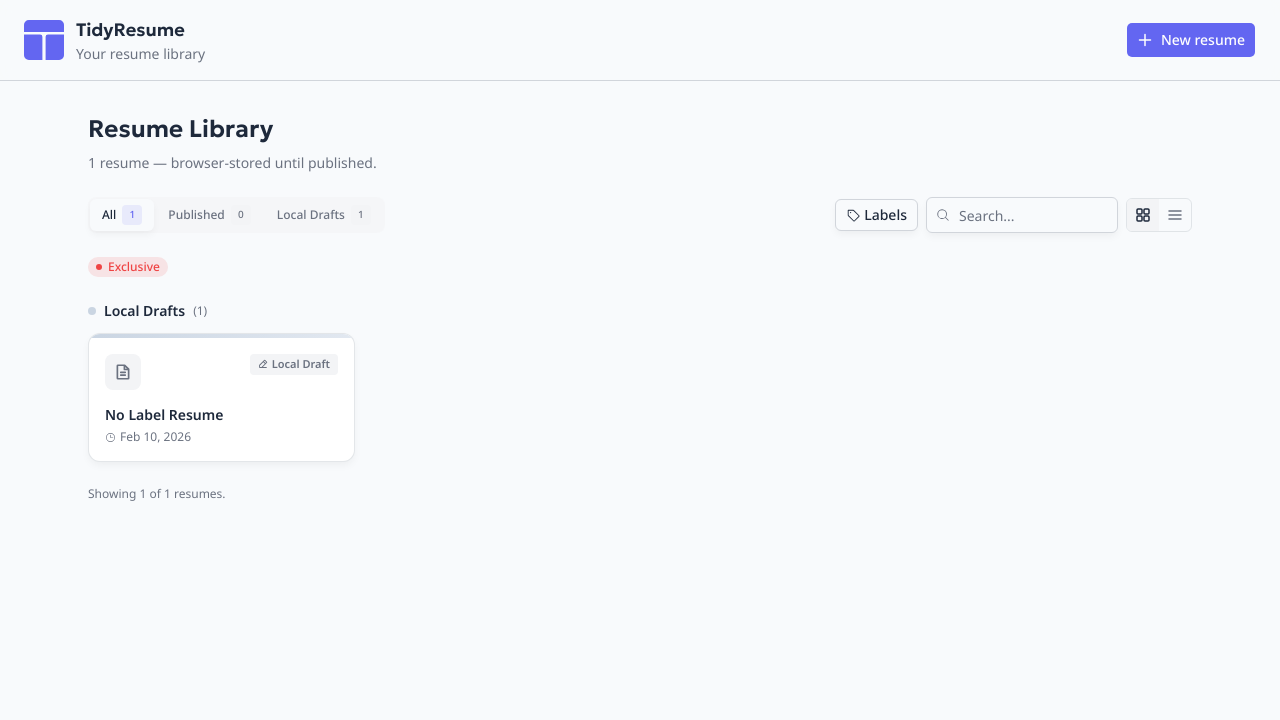
Test: ResumeLibrary (labels) › shows "No resumes match" when label filter excludes all
Click the button "Exclusive" at (128, 267), box [88, 257, 168, 277]
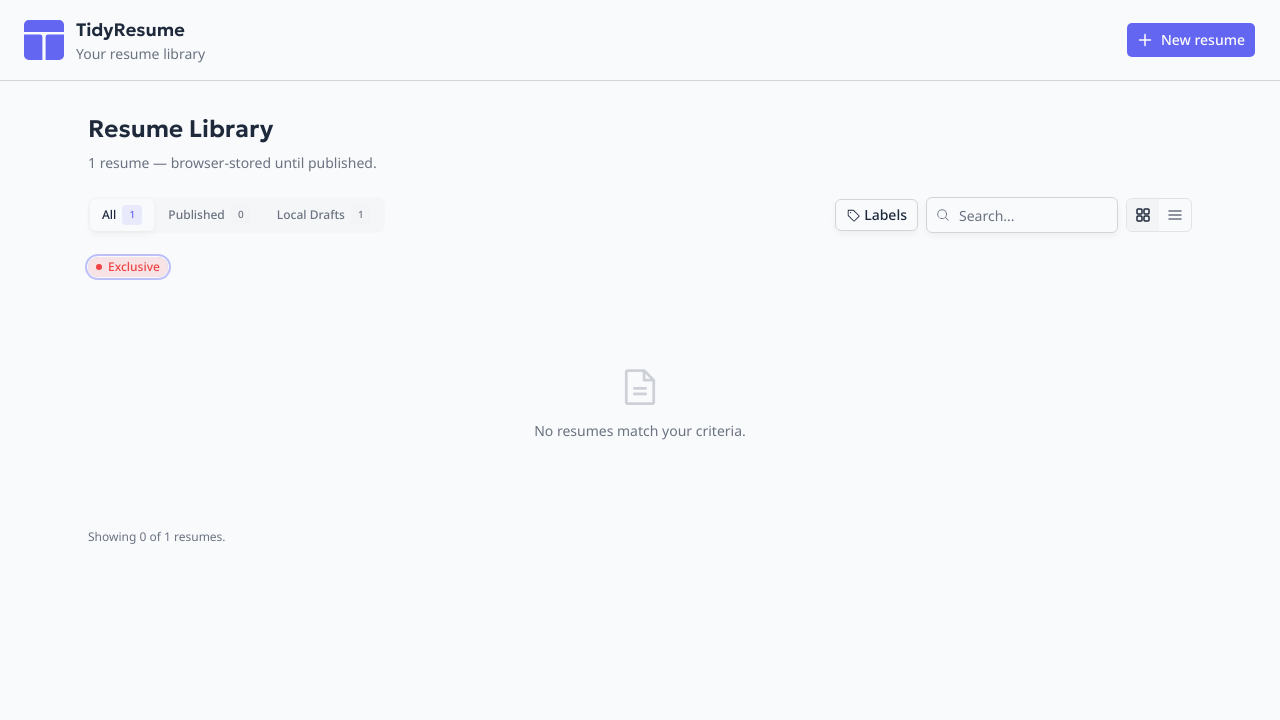
Expected: the text "No resumes match your criteria." is shown, [534, 421, 746, 440]
